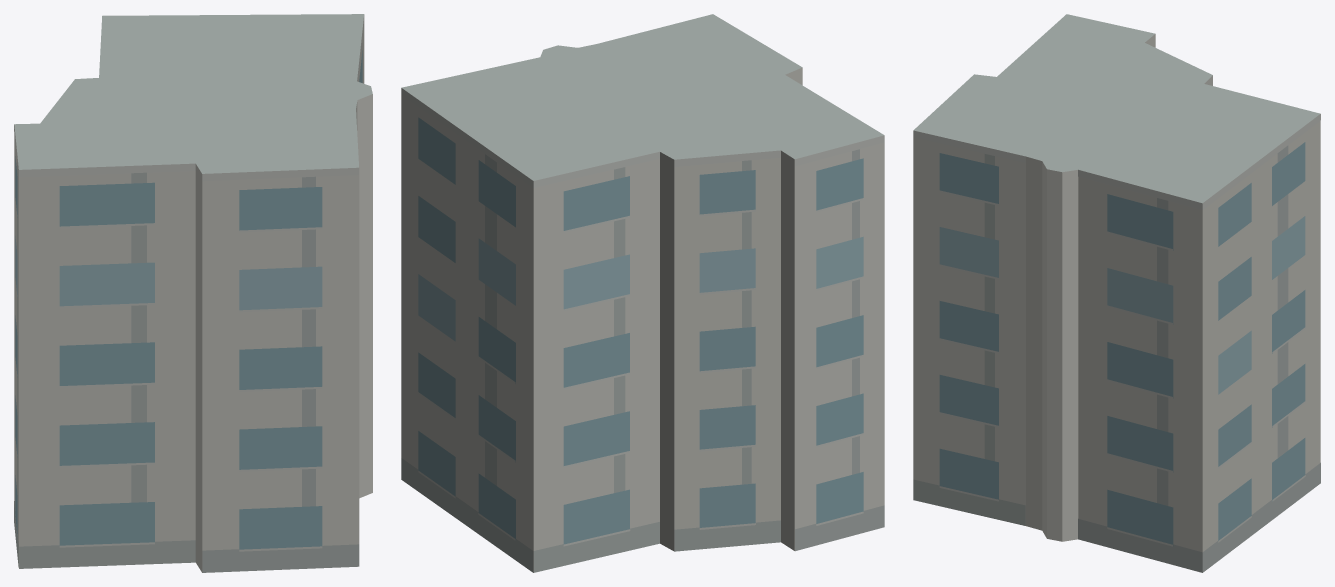
The model's file is survey-upis-32724582.glb.
3 views of the same model, side by side, from view 1: azimuth 30°, elevation 25°; view 2: azimuth 150°, elevation 25°; view 3: azimuth 270°, elevation 25° (orthographic). The views are drawn at different scales.
Parts seen in each view (by area): view 1: survey-upis-32724582.tmp; view 2: survey-upis-32724582.tmp; view 3: survey-upis-32724582.tmp.
Boxes of the visible parts, bbox=[...] form: survey-upis-32724582.tmp: bbox=[14, 14, 372, 572]; survey-upis-32724582.tmp: bbox=[401, 14, 884, 572]; survey-upis-32724582.tmp: bbox=[913, 14, 1320, 572].
Bounding box in the file's own units: 14.51 × 13.2 × 13.2.
